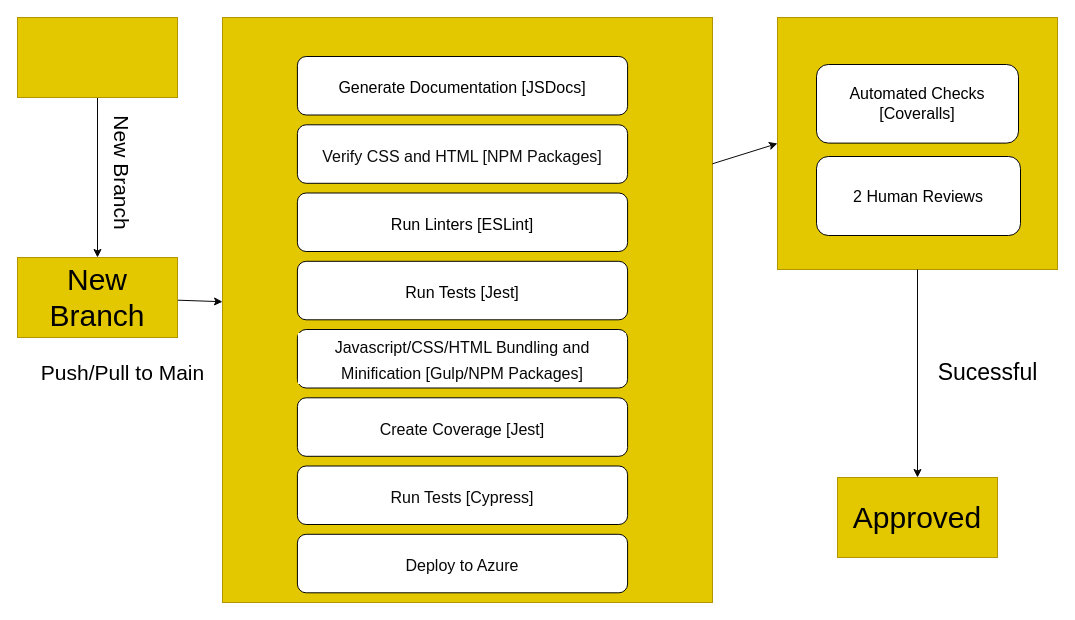
This 1075x620 diagram has some shape labels left out. The shapes that lost their labels are listed below. From the top down, each one's box as (x1, y1, x2, y2) in pixels, then its label:
(16, 16, 178, 98): Developer
(776, 16, 1058, 270): Code Quality
(222, 16, 712, 602): CI Pipeline
